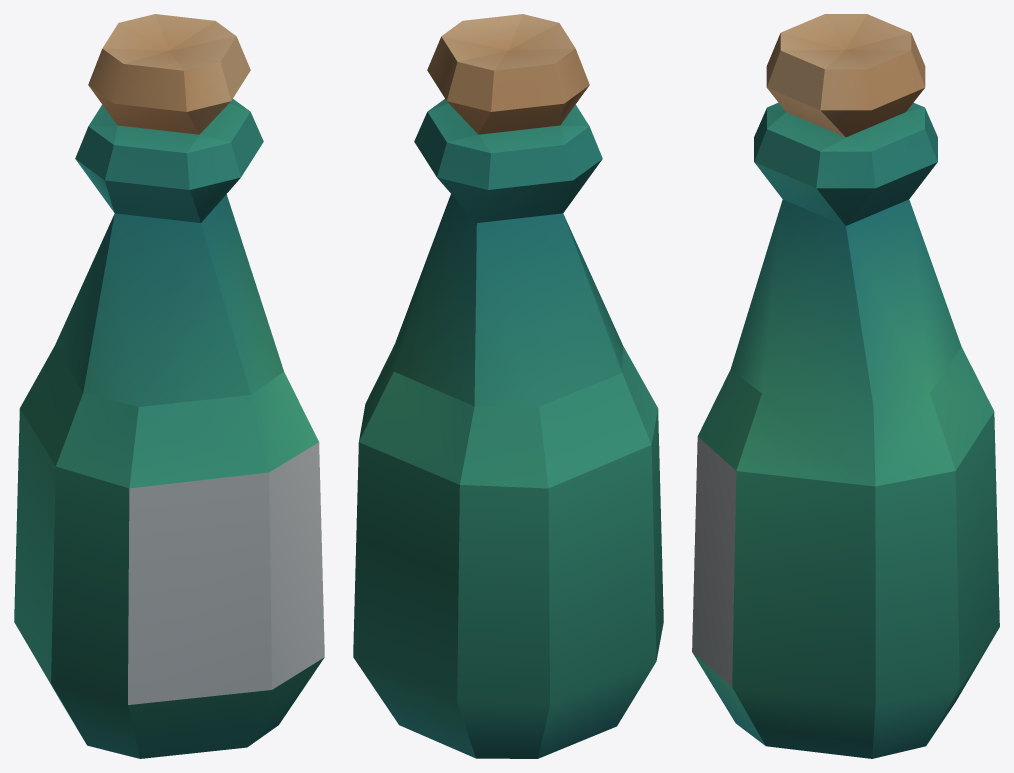
File: fw_bottle_corked.glb
The picture shows the model from 3 angles, left to right: view 1: azimuth 30°, elevation 25°; view 2: azimuth 150°, elevation 25°; view 3: azimuth 270°, elevation 25°; orthographic projection.
Parts seen in each view (by area): view 1: body; view 2: body; view 3: body.
Part boxes in pixels (left/top/right/bottom): body: left=14, top=14, right=324, bottom=758; body: left=353, top=14, right=663, bottom=758; body: left=692, top=14, right=999, bottom=758.
Size of the model in its own units: 0.1658 by 0.3986 by 0.1658.
